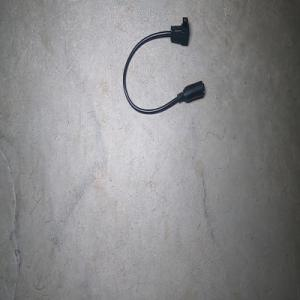Wire: (122, 16, 204, 114)
